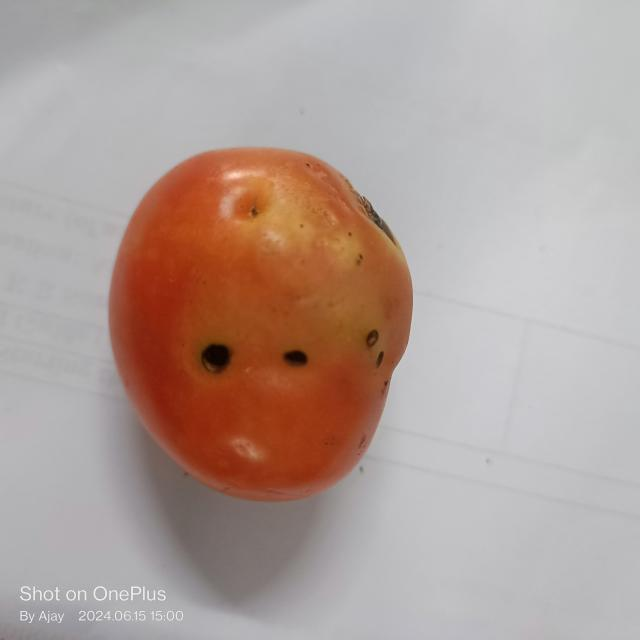fruitworm_bore: (197, 338, 243, 375), (361, 324, 397, 370), (278, 344, 310, 375)
